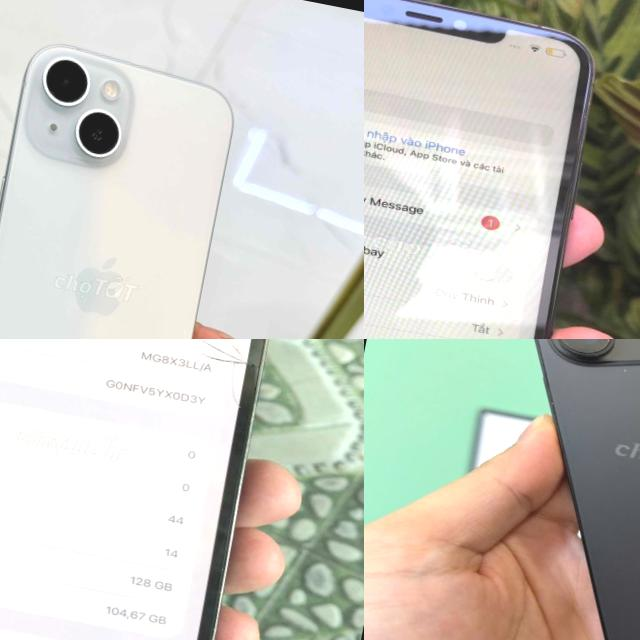gen_11: (364, 0, 637, 339)
gen_12_13: (0, 339, 320, 640)
gen_14: (439, 339, 640, 640)
gen_15: (0, 21, 253, 339)
